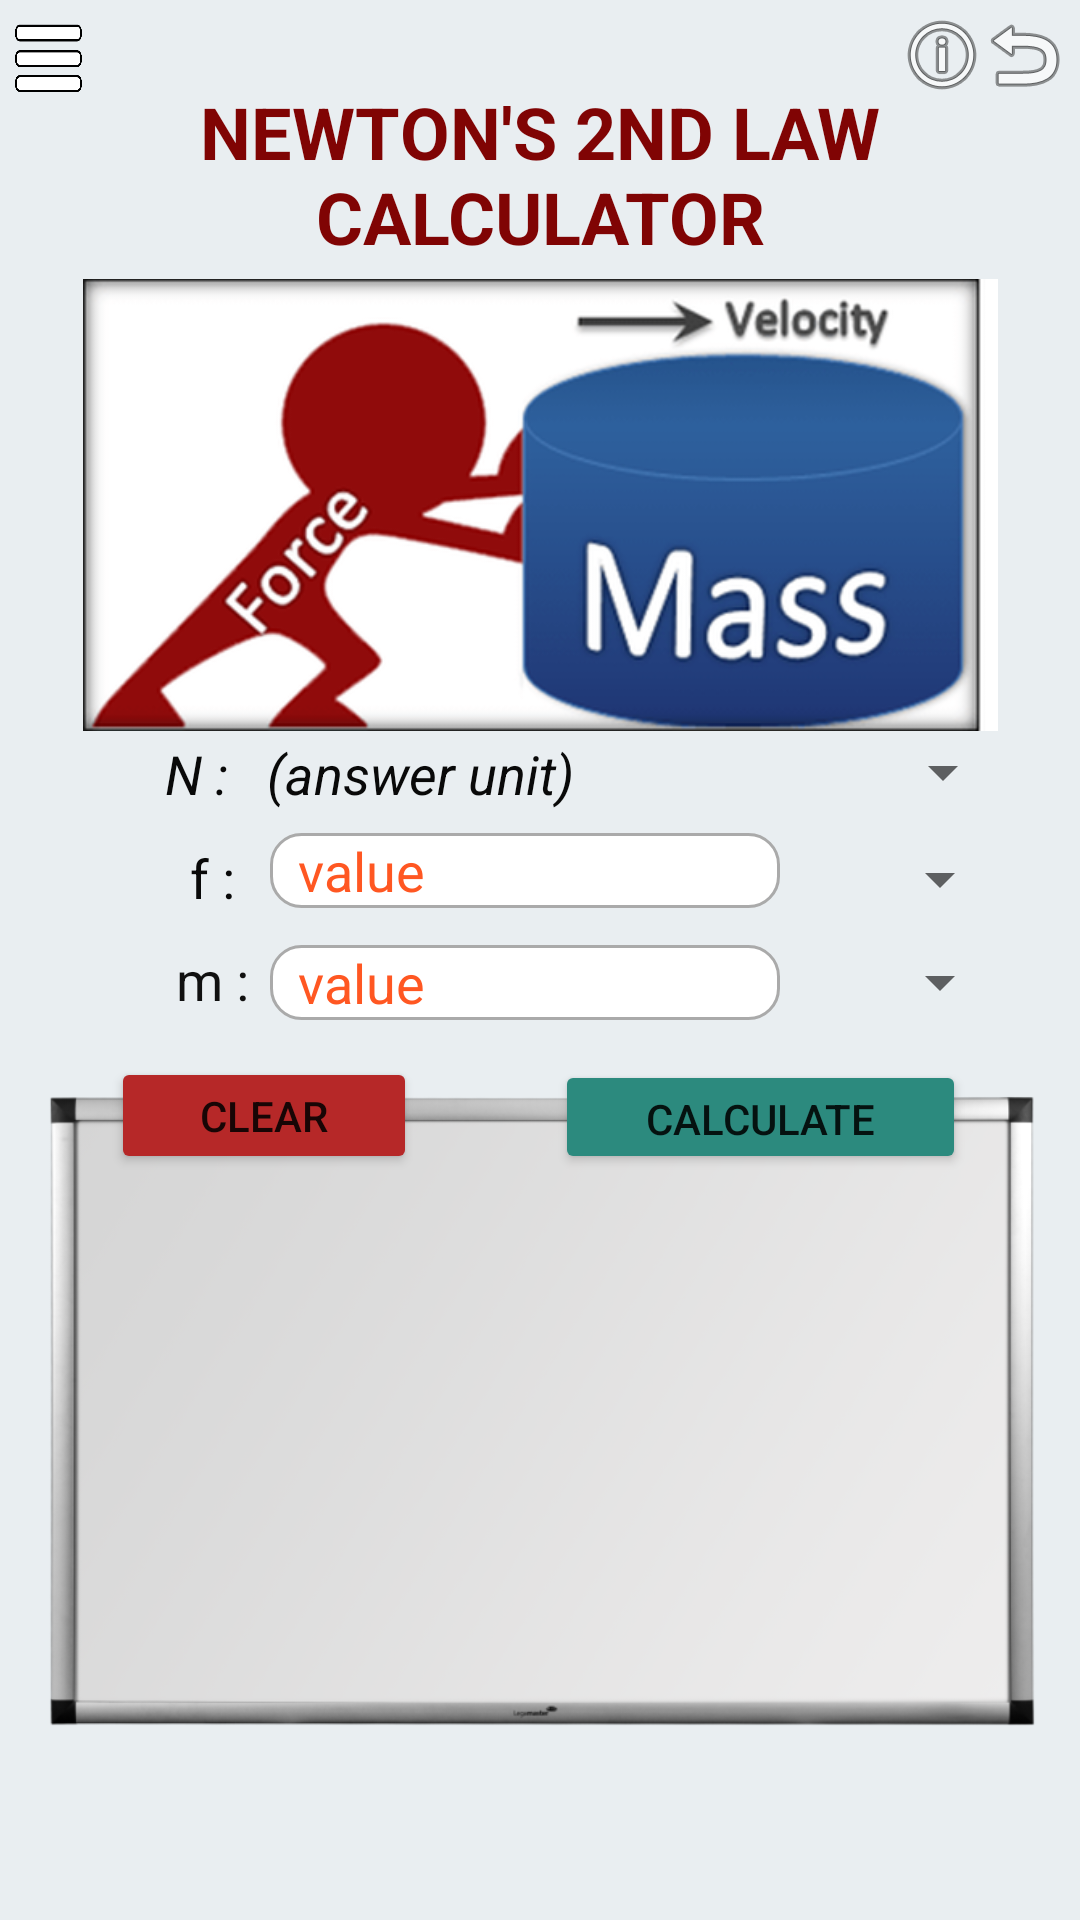

Icons on this 1080×1920 Android screen, each with the point to tap as (x=x, y=y):
info details: (x=942, y=55)
menu: (x=48, y=58)
revert: (x=1025, y=55)
